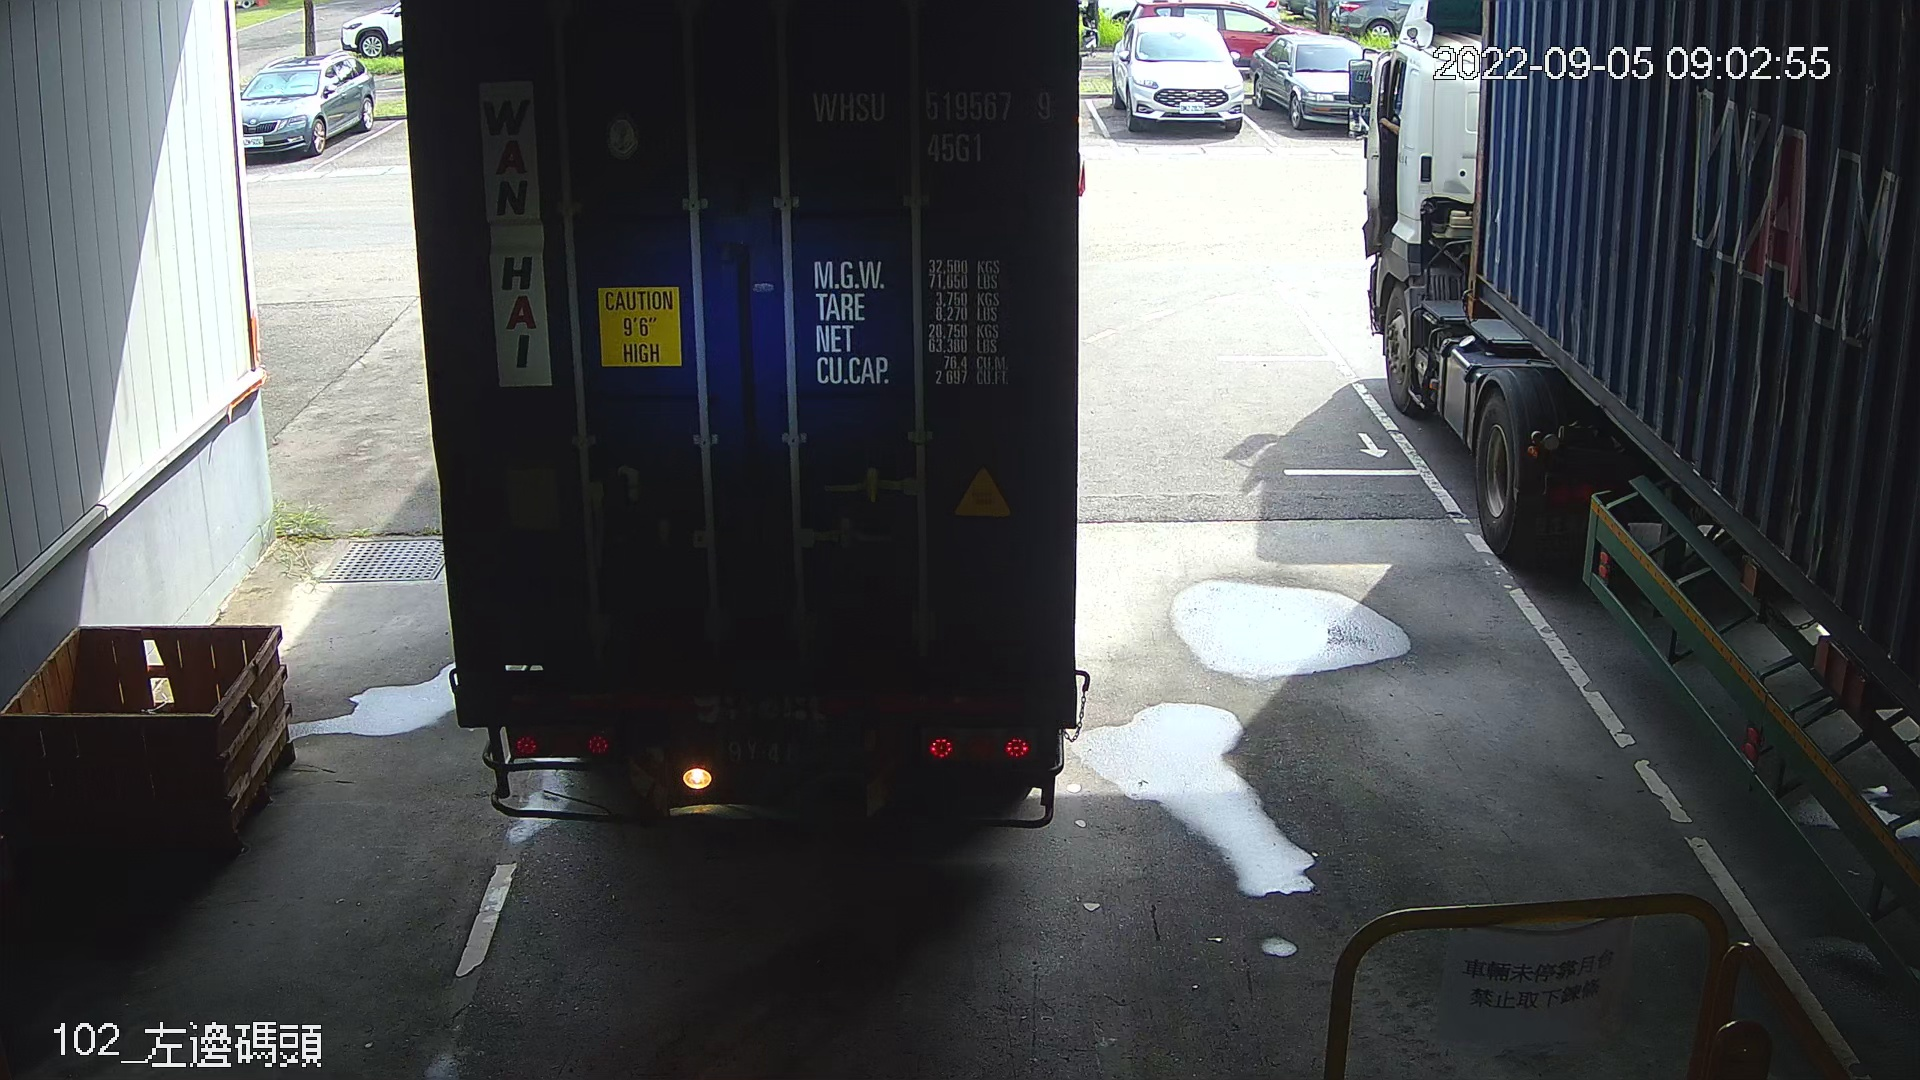container: (803, 74, 1062, 177)
